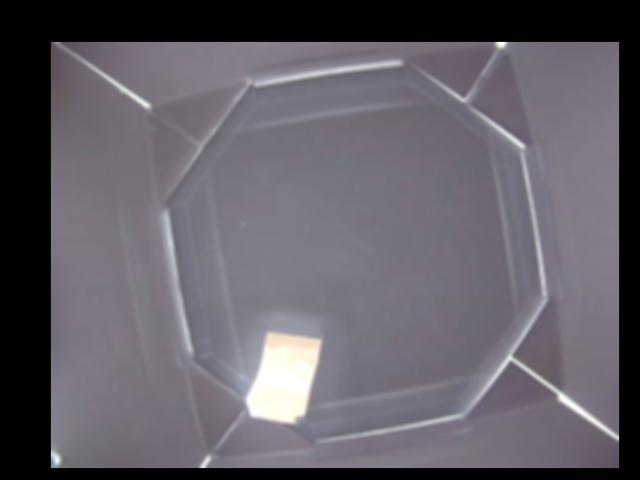China: (244, 329, 323, 421)
